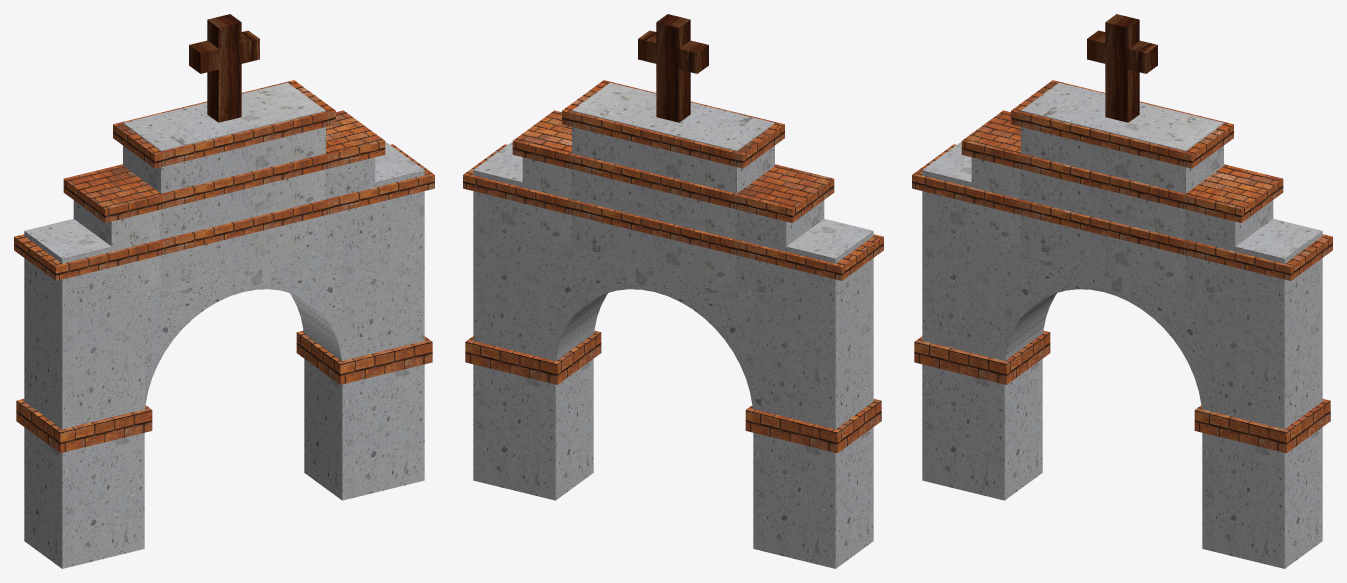
Rendered from Entrada_arco.obj.
The picture shows the model from 3 angles, left to right: view 1: azimuth 30°, elevation 25°; view 2: azimuth 150°, elevation 25°; view 3: azimuth 330°, elevation 25°; orthographic projection.
Visible parts, largest first — view 1: Box002, Box003, Tube001, Box010, Box008, Box014, Box013, Box012, Box011, Box009, Box015, Box006 (+3 smaller); view 2: Box002, Box003, Tube001, Box010, Box014, Box008, Box013, Box011, Box012, Box009, Box015, Box006 (+3 smaller); view 3: Box003, Box002, Tube001, Box010, Box014, Box009, Box013, Box011, Box012, Box008, Box015, Box007 (+3 smaller).
Part boxes in pixels (bbox=[...]): Box002: bbox=[24, 283, 144, 568]; Box003: bbox=[304, 222, 424, 500]; Tube001: bbox=[63, 201, 423, 428]; Box010: bbox=[24, 142, 424, 309]; Box008: bbox=[24, 258, 144, 387]; Box014: bbox=[123, 82, 325, 193]; Box013: bbox=[63, 110, 385, 222]; Box012: bbox=[73, 157, 375, 250]; Box011: bbox=[14, 144, 434, 280]; Box009: bbox=[342, 196, 424, 319]; Box015: bbox=[113, 80, 335, 168]; Box006: bbox=[16, 399, 152, 453]; Box002: bbox=[753, 283, 873, 568]; Box003: bbox=[473, 222, 593, 500]; Tube001: bbox=[474, 201, 831, 427]; Box010: bbox=[473, 142, 873, 309]; Box014: bbox=[572, 82, 774, 193]; Box008: bbox=[753, 258, 873, 387]; Box013: bbox=[512, 110, 834, 222]; Box011: bbox=[463, 144, 883, 280]; Box012: bbox=[522, 157, 824, 246]; Box009: bbox=[473, 196, 555, 319]; Box015: bbox=[562, 80, 784, 168]; Box006: bbox=[745, 399, 881, 453]; Box003: bbox=[1202, 283, 1322, 568]; Box002: bbox=[922, 222, 1042, 500]; Tube001: bbox=[923, 201, 1280, 427]; Box010: bbox=[922, 142, 1322, 309]; Box014: bbox=[1021, 82, 1223, 193]; Box009: bbox=[1202, 258, 1322, 387]; Box013: bbox=[961, 110, 1283, 222]; Box011: bbox=[912, 144, 1332, 280]; Box012: bbox=[971, 157, 1273, 246]; Box008: bbox=[922, 196, 1004, 319]; Box015: bbox=[1011, 80, 1233, 168]; Box007: bbox=[1194, 399, 1330, 453].
Size of the model in its own units: 39.1 by 48.3 by 7.82.
3 materials, 3 textured.
